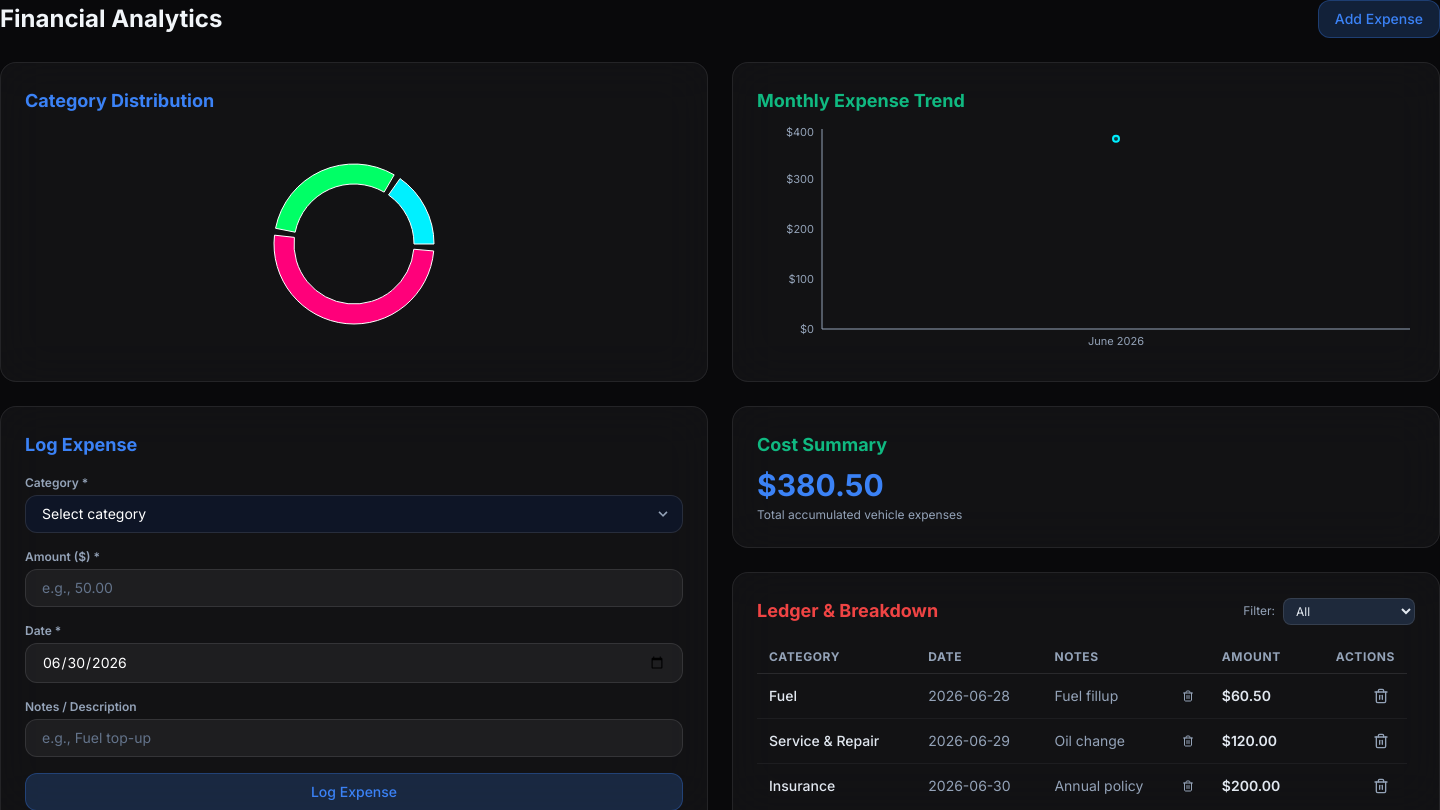
FinanceView Unit Tests › Ledger List Display, Filtering, and Deletion Flow › permanently deletes the item and updates storage if deletion is confirmed
This screenshot has width=1440, height=810.
Click the button with test id "delete-exp-2" next to "Oil change": click(1188, 741) [1178, 731, 1198, 751]
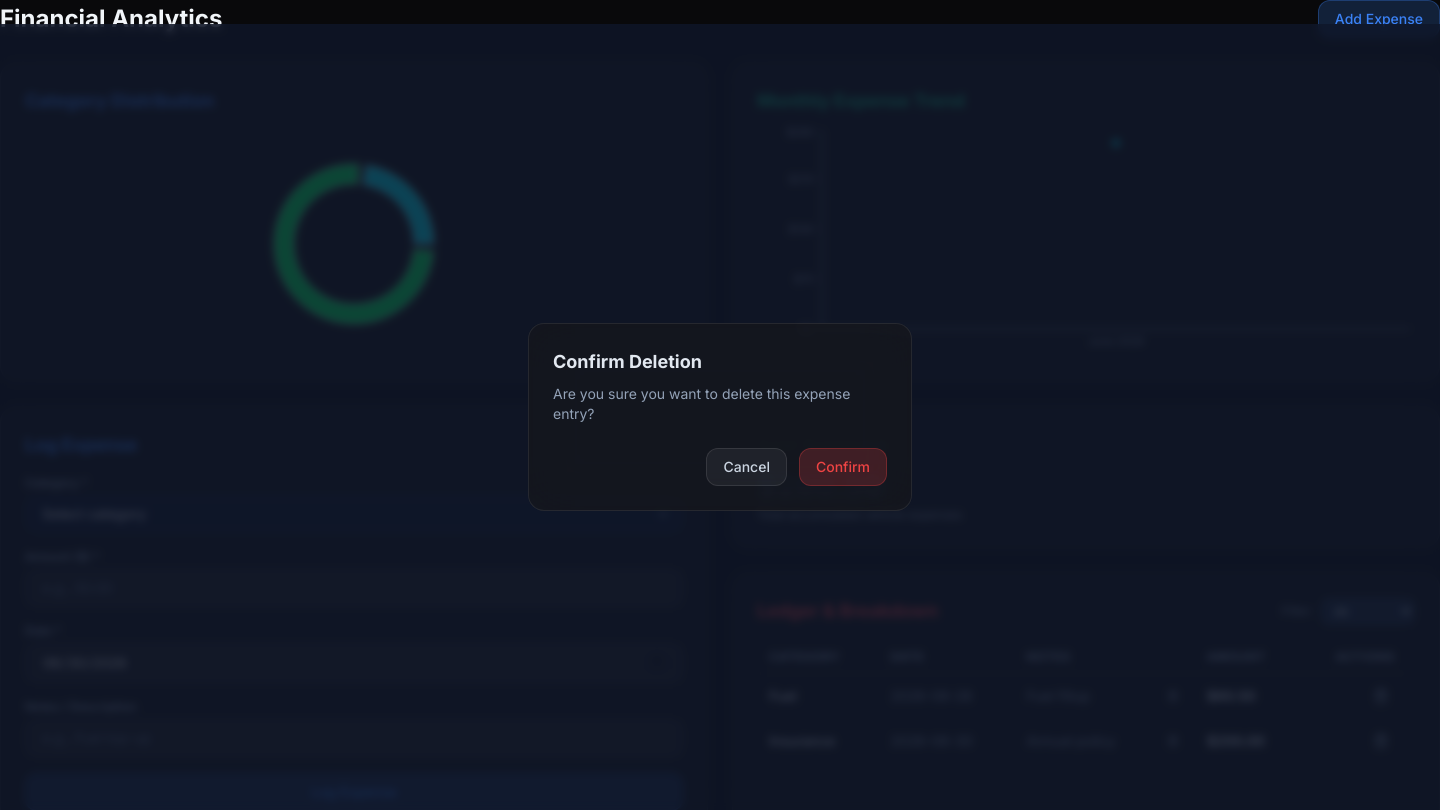
// Confirm deletion in modal
Click the button "Confirm": click(843, 467) [799, 448, 887, 486]
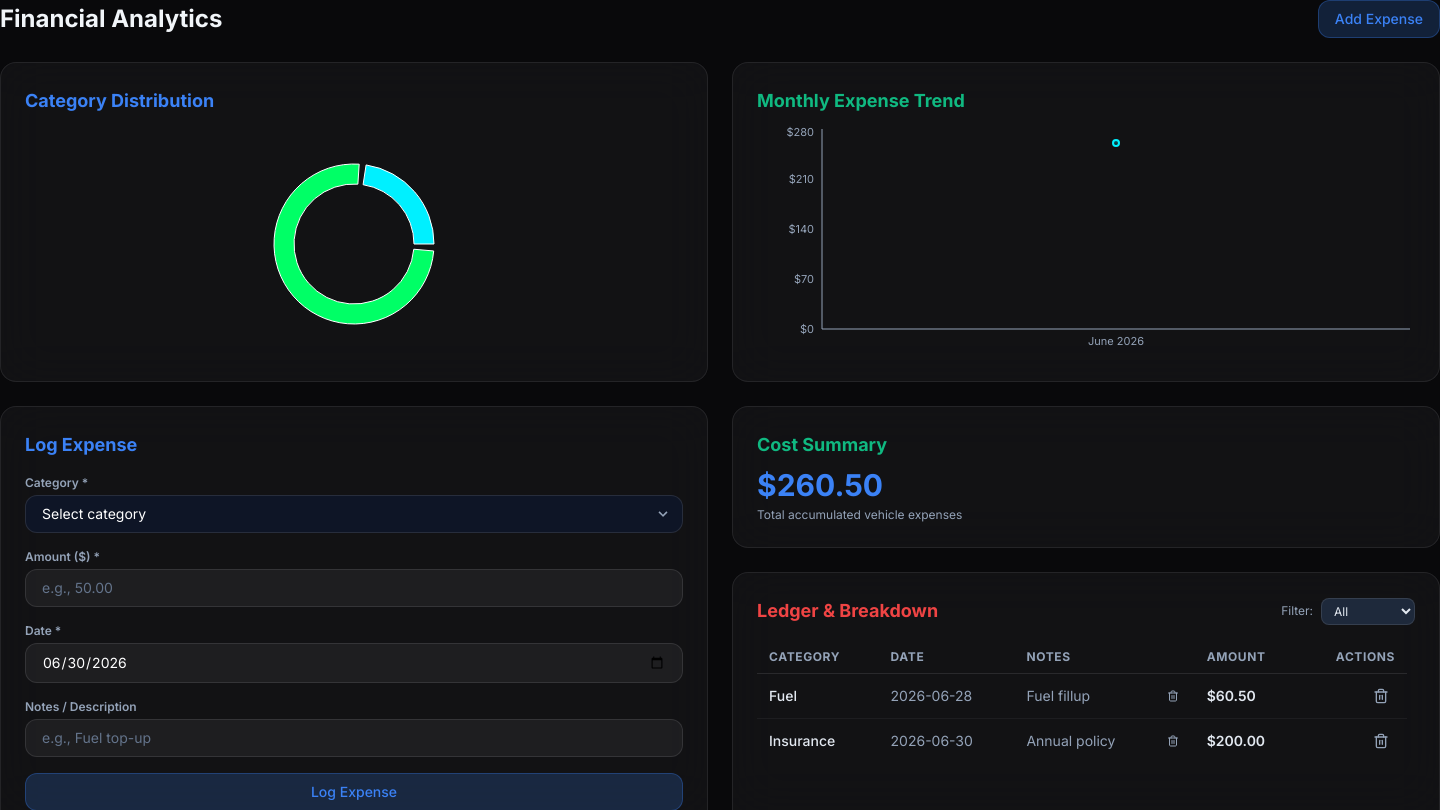
Check: the text "Oil change" is not shown
Check: the text "$260.50" is shown, box [757, 467, 883, 503]
Check: the heading "Confirm Deletion" is gone
